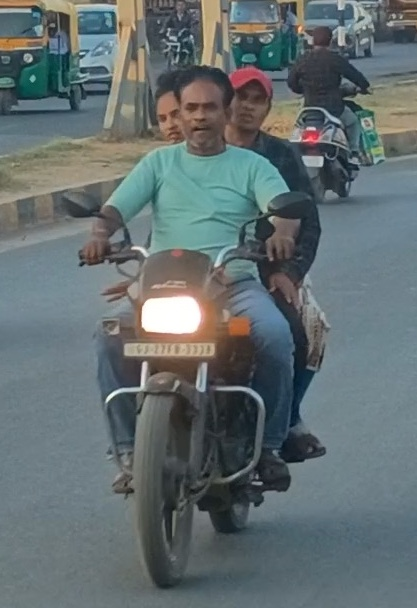BikeWithRider: (58, 54, 353, 594), (277, 15, 389, 211)
NoHelmet: (175, 61, 233, 152), (222, 59, 275, 133), (149, 73, 196, 138), (307, 21, 340, 50)
